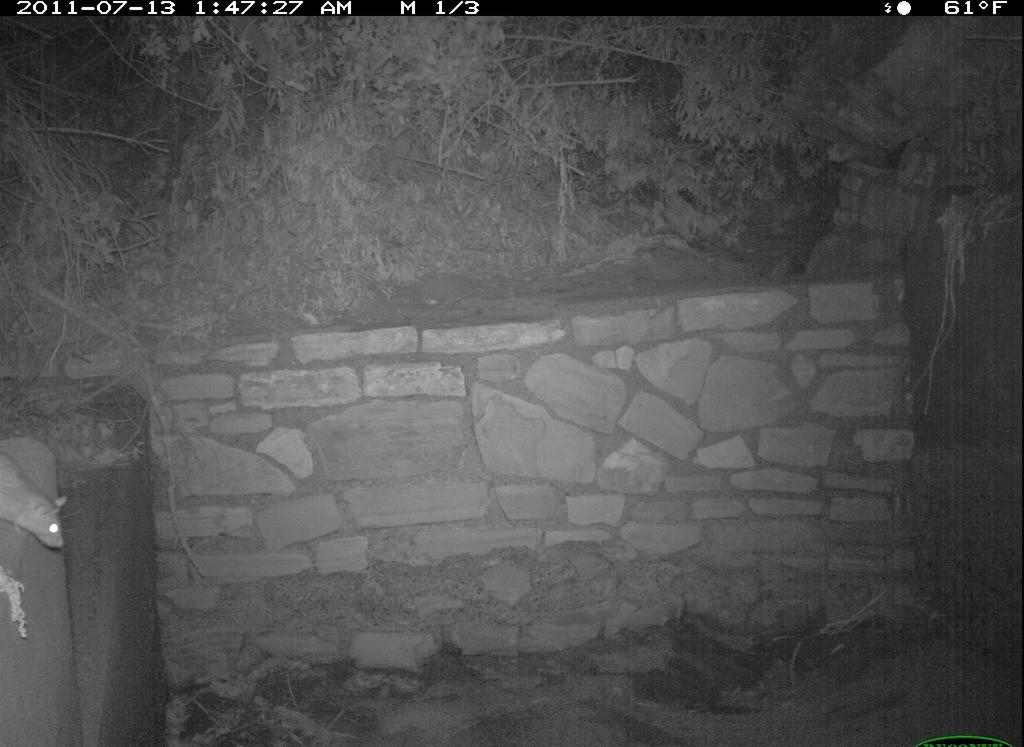rodent: (3, 443, 72, 568)
